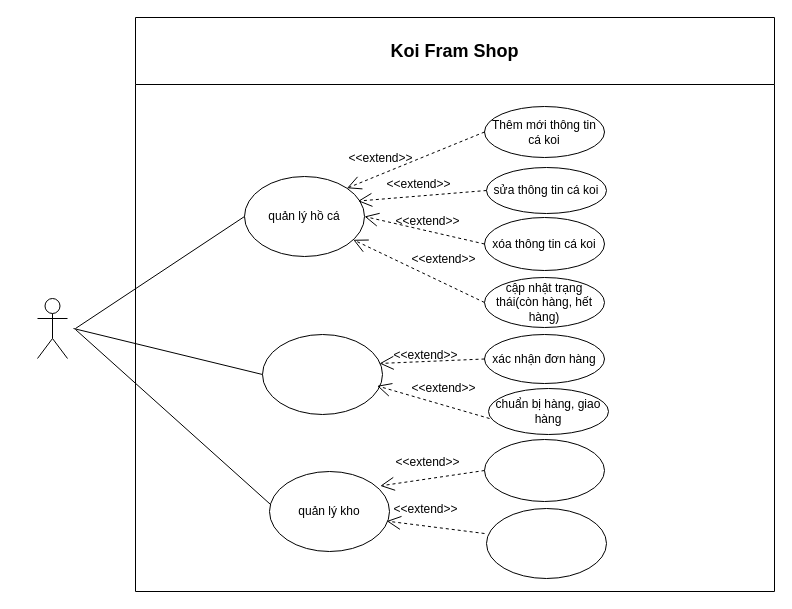
Some shapes in this 792 by 609 pixel diagram are drawn without their labels. The centre of each missing label's shape, as x and y in pixels:
Administrator: [52,328]
kiểm kê số lượng: [544,470]
theo dõi nhập xuất kho: [546,543]
xử lý đơn hàng: [322,374]
